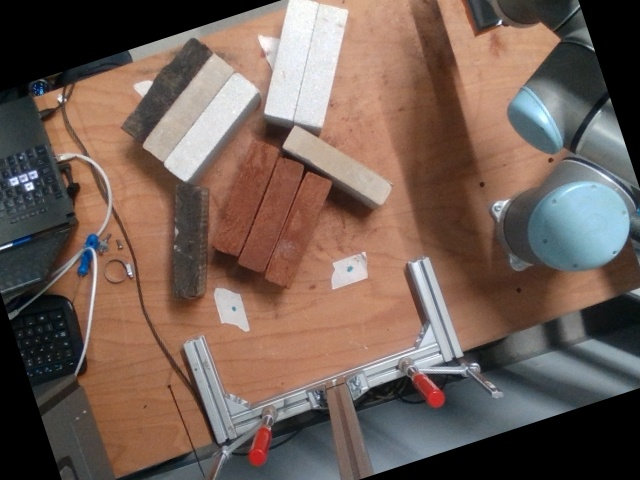brick-side: (164, 72, 256, 178), (142, 53, 233, 158), (122, 37, 210, 140), (283, 125, 391, 201), (264, 173, 331, 285), (238, 157, 303, 272), (218, 141, 277, 253), (295, 3, 346, 126), (265, 0, 316, 116), (172, 187, 201, 296)
